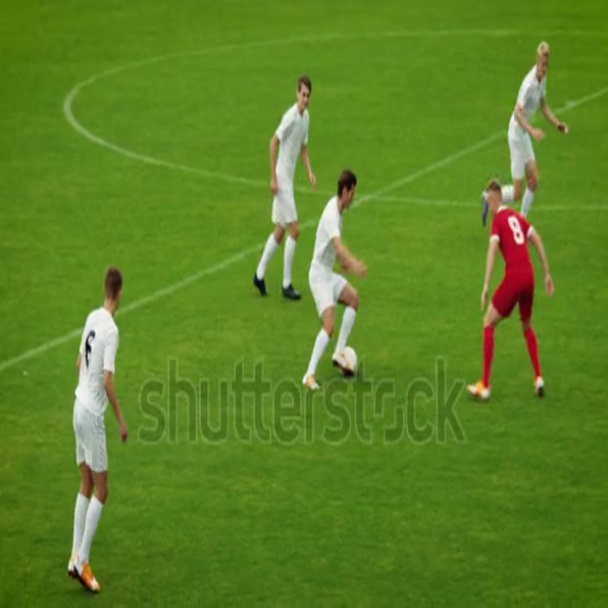ball: (341, 343, 356, 377)
